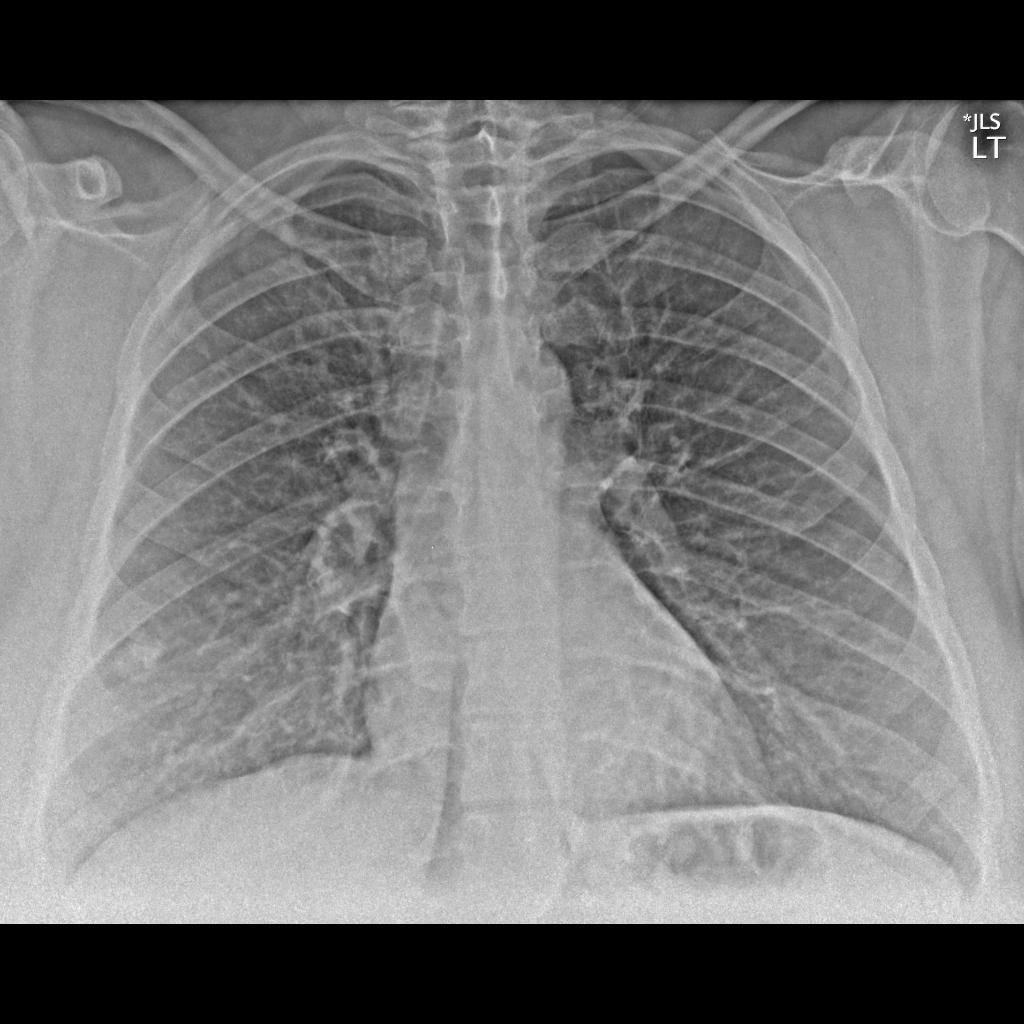Nodule: (112, 626, 185, 692)
